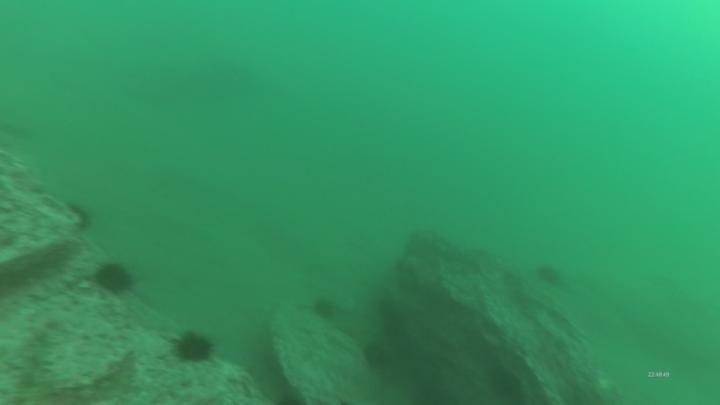echinus: (170, 327, 218, 366), (91, 258, 137, 297), (485, 364, 527, 403), (65, 199, 96, 234), (360, 338, 391, 370), (309, 294, 340, 323), (533, 261, 564, 288)
